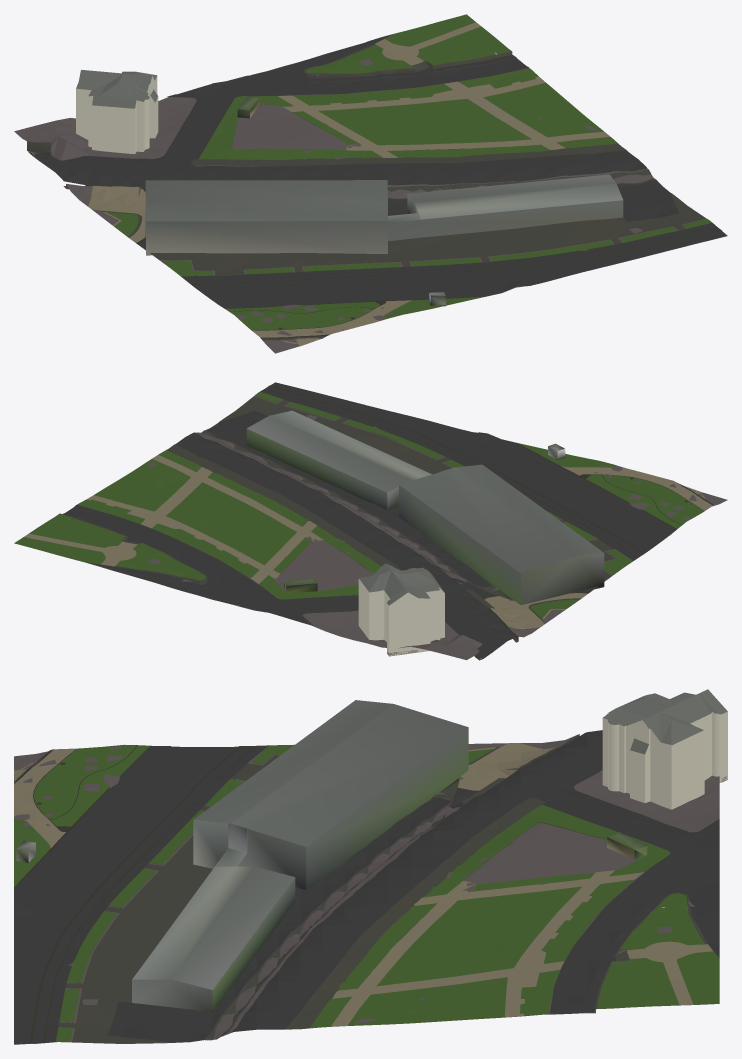
The picture shows the model from 3 angles, top to bottom: view 1: azimuth 30°, elevation 25°; view 2: azimuth 150°, elevation 25°; view 3: azimuth 270°, elevation 25°; orthographic projection. The views are drawn at different scales.
Parts seen in each view (by area): view 1: c_m07_p12; view 2: c_m07_p12; view 3: c_m07_p12.
Part boxes in pixels (box(x1,y1,x2,y2)): c_m07_p12: box(14, 14, 727, 353); c_m07_p12: box(14, 382, 727, 660); c_m07_p12: box(14, 689, 727, 1044).
Size of the model in its own units: 129 by 21.72 by 130.
